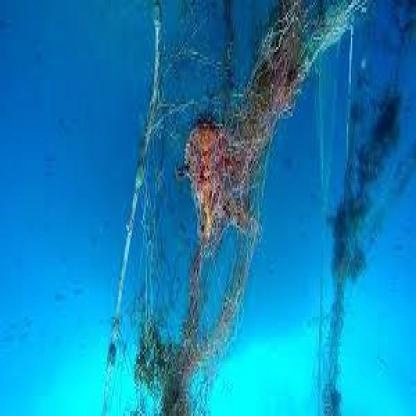net: (121, 2, 337, 416)
